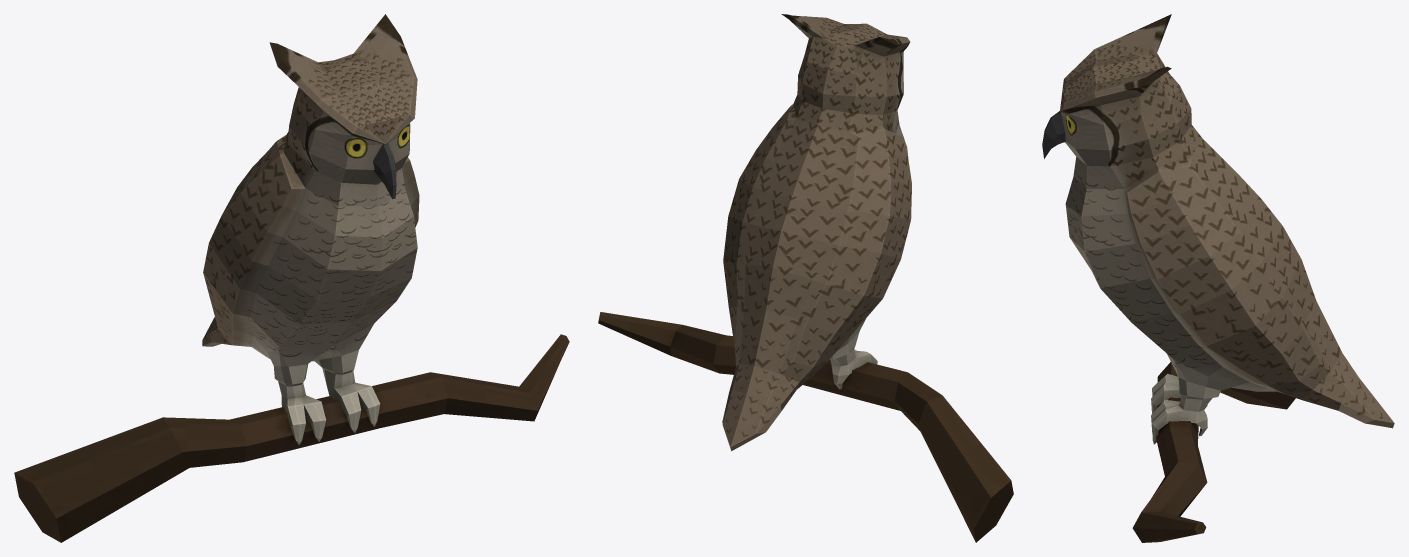
The model's file is fNkq9CwSG6d.glb.
3 renders of one model, left to right at view 1: azimuth 30°, elevation 25°; view 2: azimuth 150°, elevation 25°; view 3: azimuth 270°, elevation 25°, orthographic. The views are drawn at different scales.
Visible parts, largest first — view 1: GreatHornedOwl_mesh; view 2: GreatHornedOwl_mesh; view 3: GreatHornedOwl_mesh.
Boxes of the visible parts, left/top/right/bottom form: GreatHornedOwl_mesh: left=14, top=14, right=569, bottom=542; GreatHornedOwl_mesh: left=598, top=14, right=1013, bottom=542; GreatHornedOwl_mesh: left=1042, top=14, right=1394, bottom=542.
Size of the model in its own units: 1.07 by 1 by 0.6738.
Materials: 1 (1 with a texture image).
